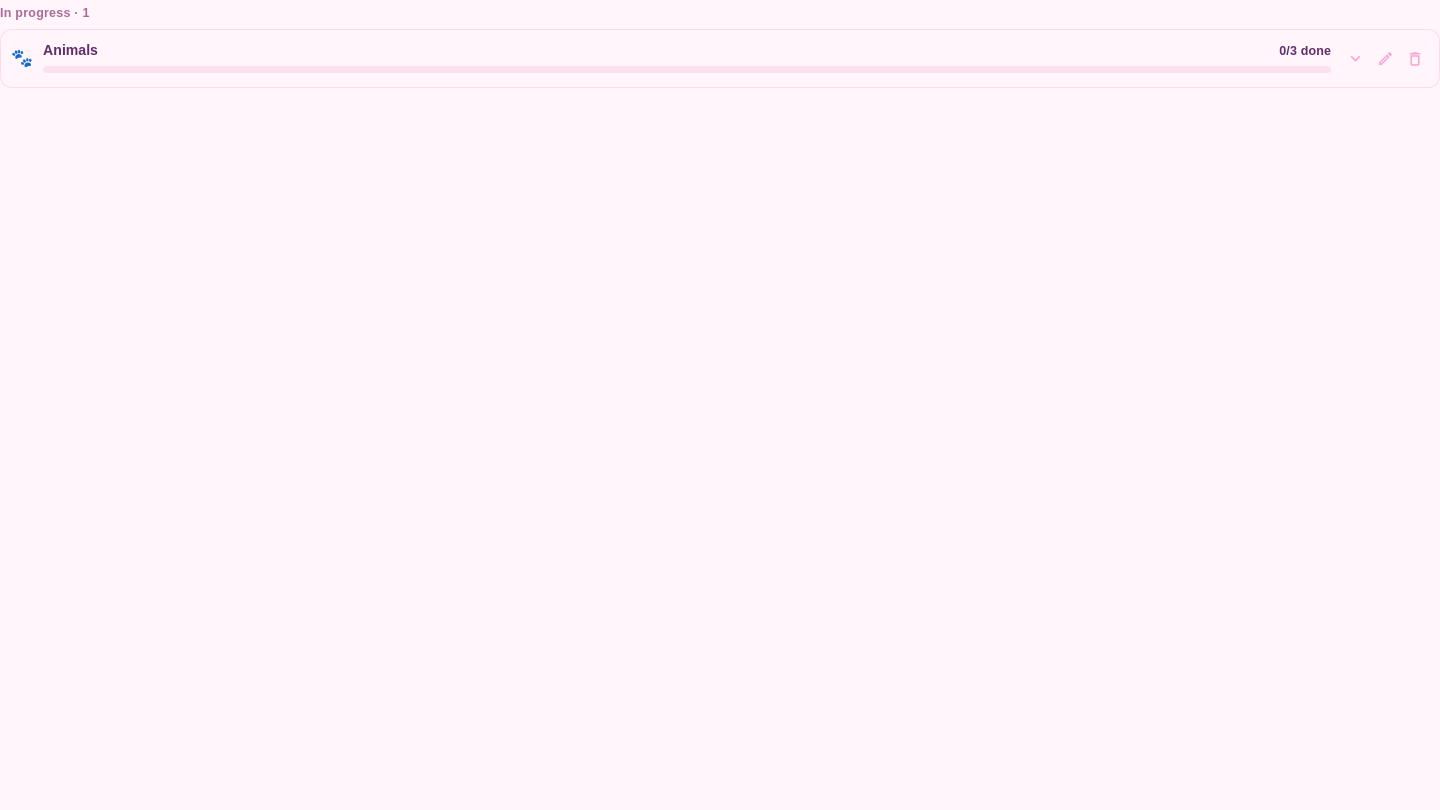
Test: AssignmentsList › confirms before removing every copy of a handout
Click the button named "Remove handout" at (1415,59), box x1=1401 y1=44 x2=1429 y2=73
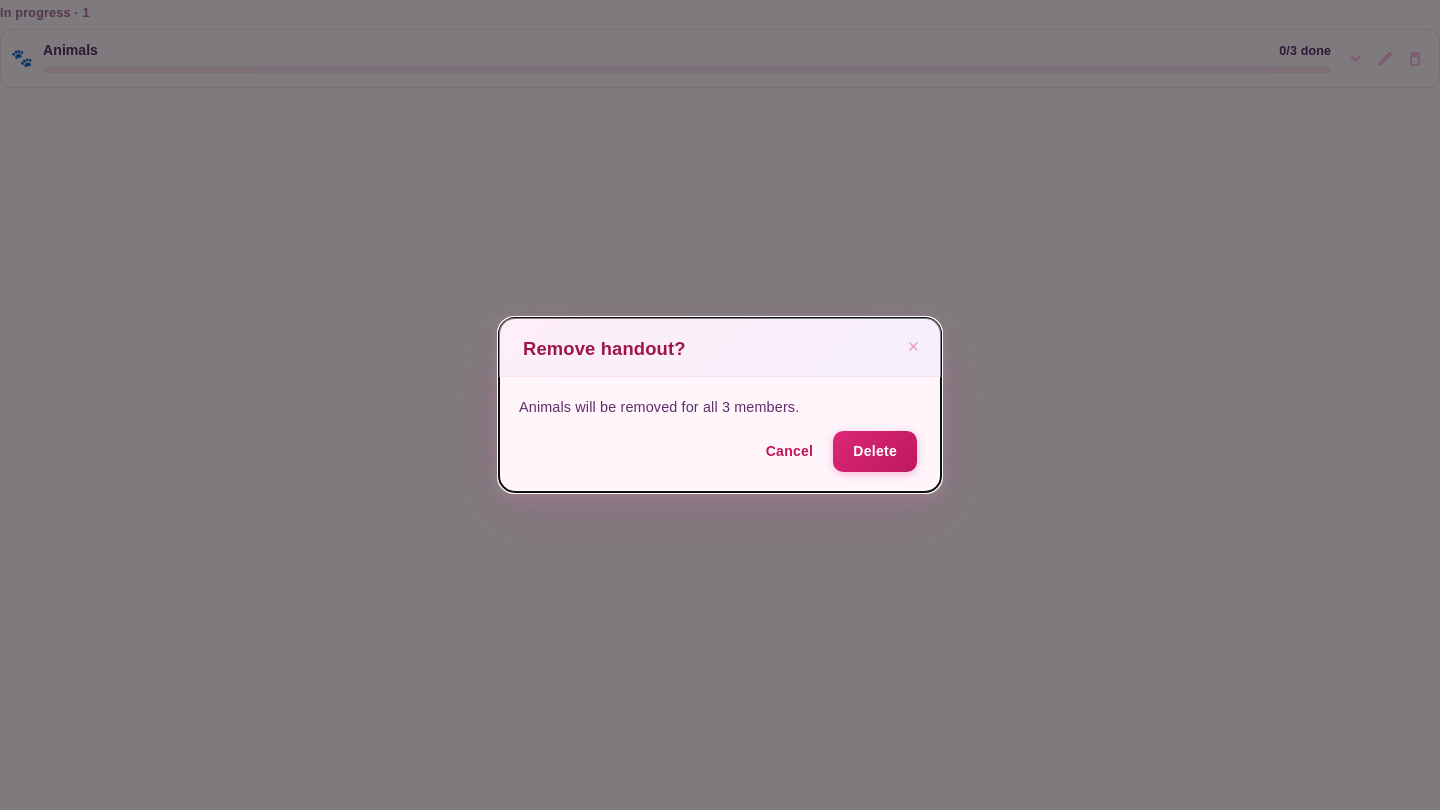
Now the text "Animals will be removed for all 3 members." is shown, box x1=519 y1=400 x2=799 y2=416
Click the button "Delete" at (875,451), box x1=833 y1=431 x2=917 y2=472
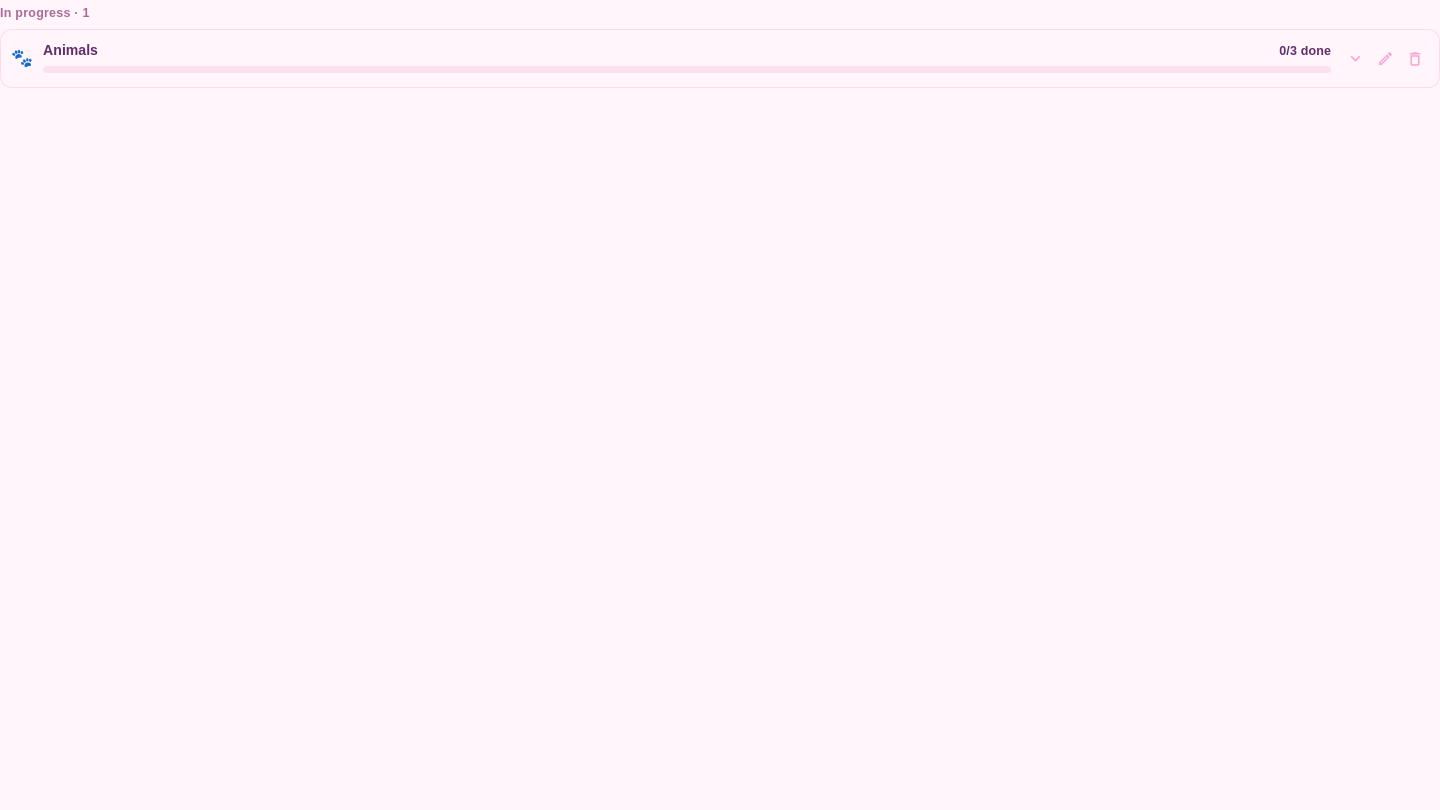
Now the text "will be removed for all 3 members" is gone
